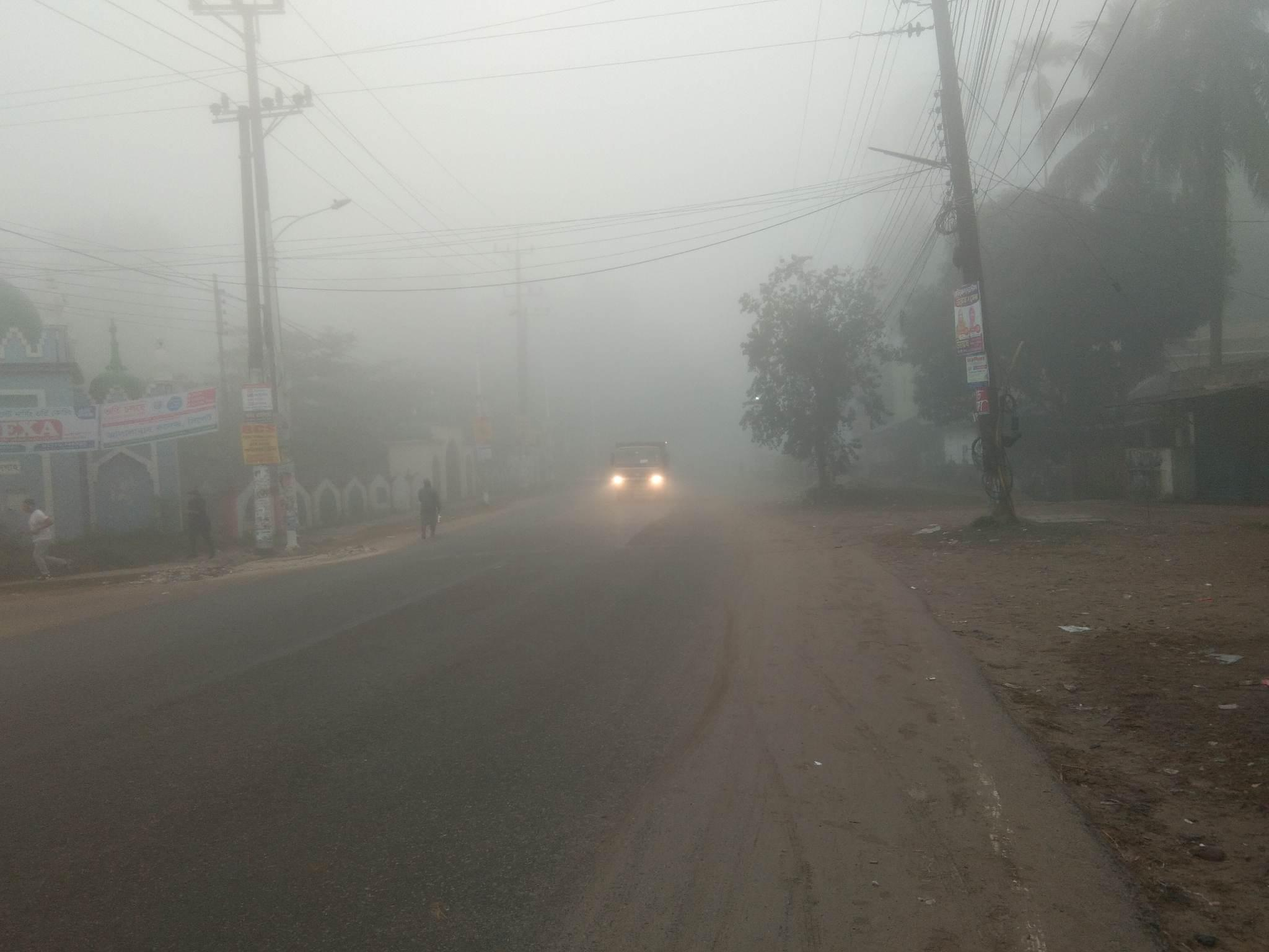Truck: (592, 430, 694, 509)
